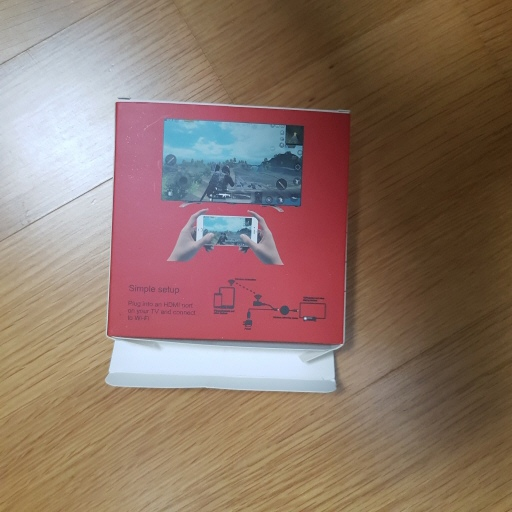Paper_0: (100, 94, 360, 413)
